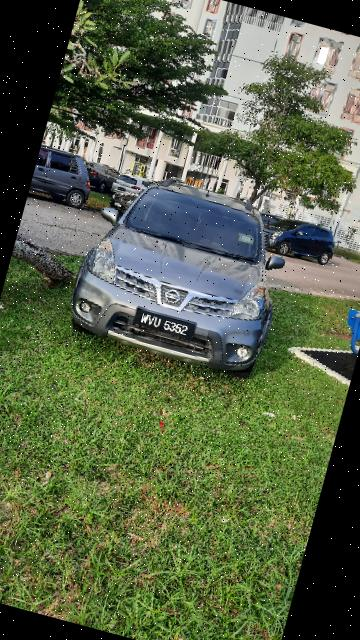License_Plate: (131, 304, 201, 344)
car: (60, 159, 306, 388)
